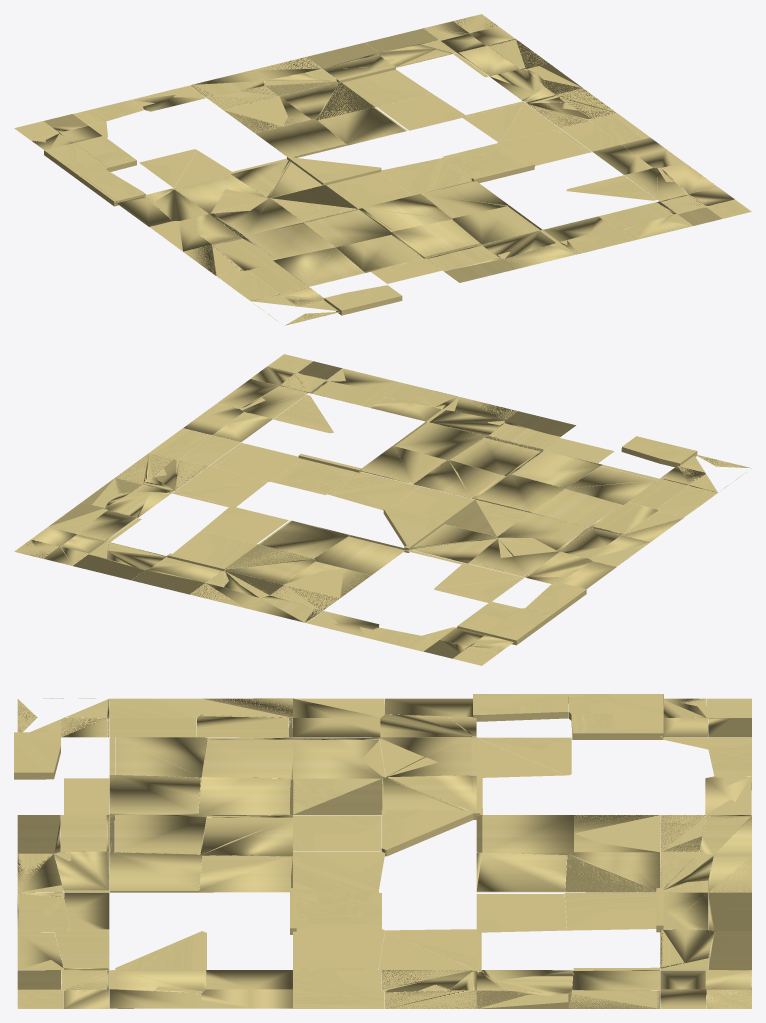
File: TileDestroyed.fbx
3 views of the same model, one above another, from view 1: azimuth 30°, elevation 25°; view 2: azimuth 150°, elevation 25°; view 3: azimuth 270°, elevation 25° (orthographic). The views are drawn at different scales.
Visible parts, largest first — view 1: Platforms__24__cell.042_cell.004, Platforms__24__cell.043_cell.007, Platforms__24__cell.046_cell.005, Platforms__24__cell.047_cell.004, Platforms__24__cell.043_cell.005, Platforms__24__cell.047_cell.007, Platforms__24__cell.029_cell.003, Platforms__24__cell.047_cell.005, Platforms__24__cell.031_cell, Platforms__24__cell.046_cell.004, Platforms__24__cell.046_cell.007, Platforms__24__cell.042_cell.006 (+62 smaller); view 2: Platforms__24__cell.042_cell.004, Platforms__24__cell.046_cell.005, Platforms__24__cell.043_cell.007, Platforms__24__cell.043_cell.005, Platforms__24__cell.047_cell.004, Platforms__24__cell.047_cell.007, Platforms__24__cell.031_cell, Platforms__24__cell.029_cell.003, Platforms__24__cell.047_cell.005, Platforms__24__cell.046_cell.004, Platforms__24__cell.042_cell.006, Platforms__24__cell.046_cell.007 (+62 smaller); view 3: Platforms__24__cell.042_cell.004, Platforms__24__cell.029_cell.003, Platforms__24__cell.043_cell.005, Platforms__24__cell.046_cell.005, Platforms__24__cell.047_cell.007, Platforms__24__cell.043_cell.007, Platforms__24__cell.047_cell.004, Platforms__24__cell.042_cell.006, Platforms__24__cell.031_cell, Platforms__24__cell.046_cell.004, Platforms__24__cell.046_cell.007, Platforms__24__cell.047_cell.005 (+74 smaller).
Part boxes in pixels (box(x1,y1,x2,y2)): Platforms__24__cell.042_cell.004: box(255, 119, 344, 156); Platforms__24__cell.043_cell.007: box(214, 198, 302, 236); Platforms__24__cell.046_cell.005: box(273, 247, 362, 284); Platforms__24__cell.047_cell.004: box(452, 206, 539, 244); Platforms__24__cell.043_cell.005: box(176, 175, 266, 213); Platforms__24__cell.047_cell.007: box(363, 194, 452, 231); Platforms__24__cell.029_cell.003: box(380, 158, 470, 195); Platforms__24__cell.047_cell.005: box(390, 219, 479, 256); Platforms__24__cell.031_cell: box(497, 130, 587, 165); Platforms__24__cell.046_cell.004: box(336, 235, 423, 272); Platforms__24__cell.046_cell.007: box(245, 222, 334, 259); Platforms__24__cell.042_cell.006: box(318, 107, 405, 145); Platforms__24__cell.042_cell.004: box(314, 536, 405, 574); Platforms__24__cell.046_cell.005: box(565, 466, 656, 504); Platforms__24__cell.043_cell.007: box(497, 513, 587, 550); Platforms__24__cell.043_cell.005: box(470, 538, 559, 575); Platforms__24__cell.047_cell.004: box(395, 422, 485, 460); Platforms__24__cell.047_cell.007: box(413, 460, 502, 498); Platforms__24__cell.031_cell: box(214, 443, 301, 482); Platforms__24__cell.029_cell.003: box(331, 472, 420, 510); Platforms__24__cell.047_cell.005: box(450, 438, 540, 476); Platforms__24__cell.046_cell.004: box(512, 450, 602, 488); Platforms__24__cell.042_cell.006: box(260, 520, 349, 558); Platforms__24__cell.046_cell.007: box(531, 489, 619, 526); Platforms__24__cell.042_cell.004: box(482, 815, 573, 854); Platforms__24__cell.029_cell.003: box(293, 851, 385, 890); Platforms__24__cell.043_cell.005: box(379, 737, 471, 777); Platforms__24__cell.046_cell.005: box(116, 737, 207, 777); Platforms__24__cell.047_cell.007: box(200, 817, 292, 856); Platforms__24__cell.043_cell.007: box(293, 740, 385, 778); Platforms__24__cell.047_cell.004: box(109, 852, 202, 890); Platforms__24__cell.042_cell.006: box(476, 852, 567, 891); Platforms__24__cell.031_cell: box(293, 929, 384, 967); Platforms__24__cell.046_cell.004: box(109, 775, 200, 813); Platforms__24__cell.046_cell.007: box(202, 739, 292, 778); Platforms__24__cell.047_cell.005: box(115, 815, 206, 854).
Size of the model in its own units: 1005 by 10.78 by 1005.
